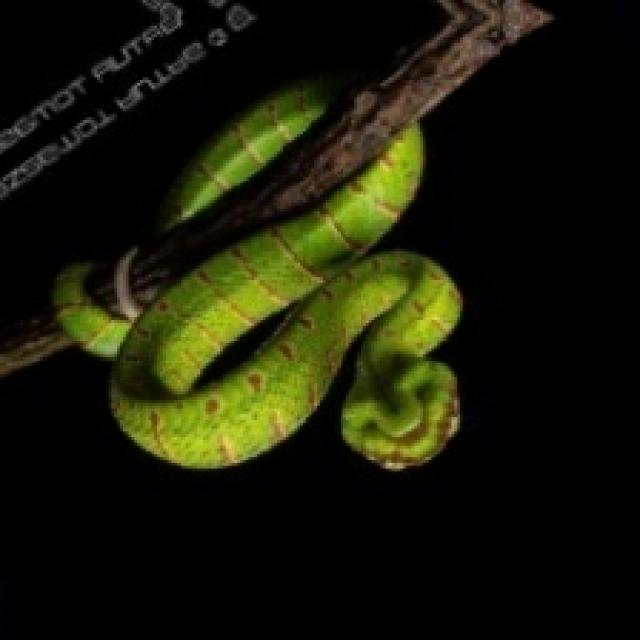north ph temple pitviper: (54, 123, 457, 466), (160, 77, 343, 229)
